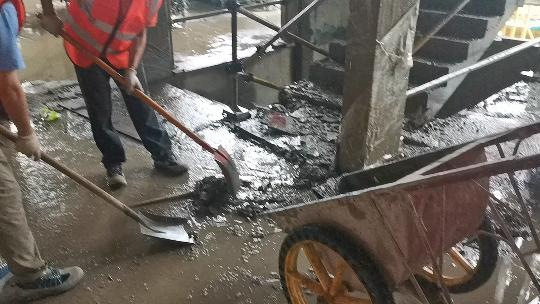hopper: (270, 135, 540, 304)
person: (62, 1, 209, 188), (1, 1, 84, 303)
vest: (61, 1, 161, 72)
